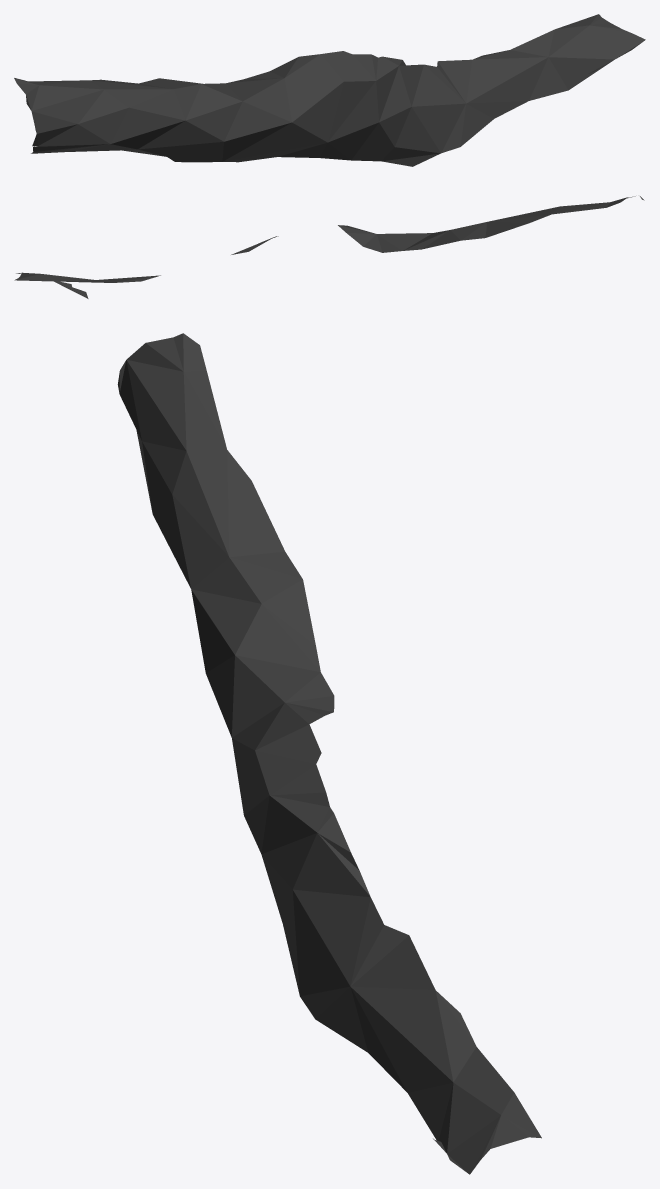
The model's file is A_iliac_internal_R_A_iliac_internal_R.glb.
The picture shows the model from 3 angles, top to bottom: view 1: azimuth 30°, elevation 25°; view 2: azimuth 150°, elevation 25°; view 3: azimuth 270°, elevation 25°; orthographic projection. The views are drawn at different scales.
Visible parts, largest first — view 1: A_iliac_internal_R_A_iliac_internal_R; view 2: A_iliac_internal_R_A_iliac_internal_R; view 3: A_iliac_internal_R_A_iliac_internal_R.
Part boxes in pixels (x1,y1,x2,y2): A_iliac_internal_R_A_iliac_internal_R: (14, 14, 645, 166); A_iliac_internal_R_A_iliac_internal_R: (14, 196, 644, 298); A_iliac_internal_R_A_iliac_internal_R: (117, 333, 541, 1174).
Size of the model in its own units: 0.0188 by 0.00567 by 0.00634.
1 material, 1 textured.
